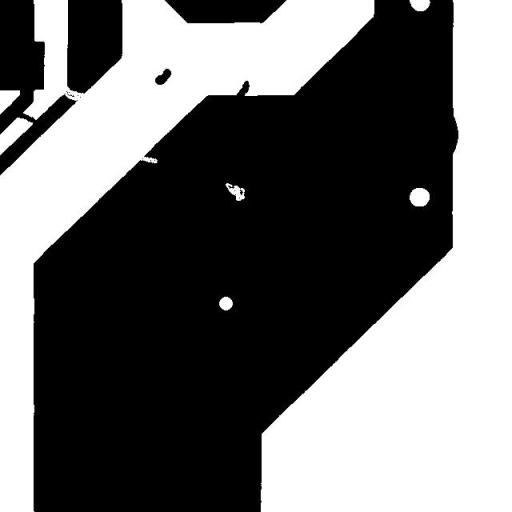copper: (148, 61, 178, 92)
mousebite: (131, 149, 165, 170)
open: (53, 77, 96, 108)
pin-hole: (218, 175, 252, 208), (211, 288, 240, 318)
short: (8, 105, 43, 130)
spur: (229, 73, 257, 111)
